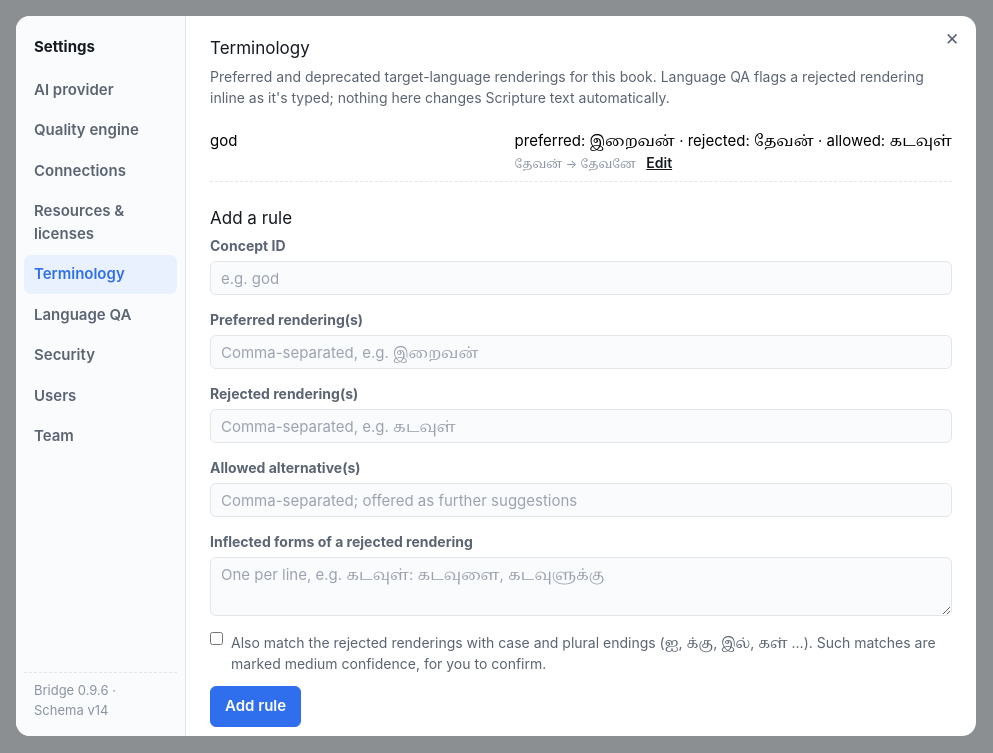
Test case: SettingsModal terminology (#171) › edits an existing rule with its v3 fields and saves it as a replacement (termbase v3)
Expected: the text "தேவன் → தேவனே" is shown, left=515, top=156, right=636, bottom=171
Expected: the text "allowed: கடவுள்" is shown, left=515, top=130, right=952, bottom=174
Click the button "Edit" at x=656, y=162, box left=640, top=152, right=672, bottom=173
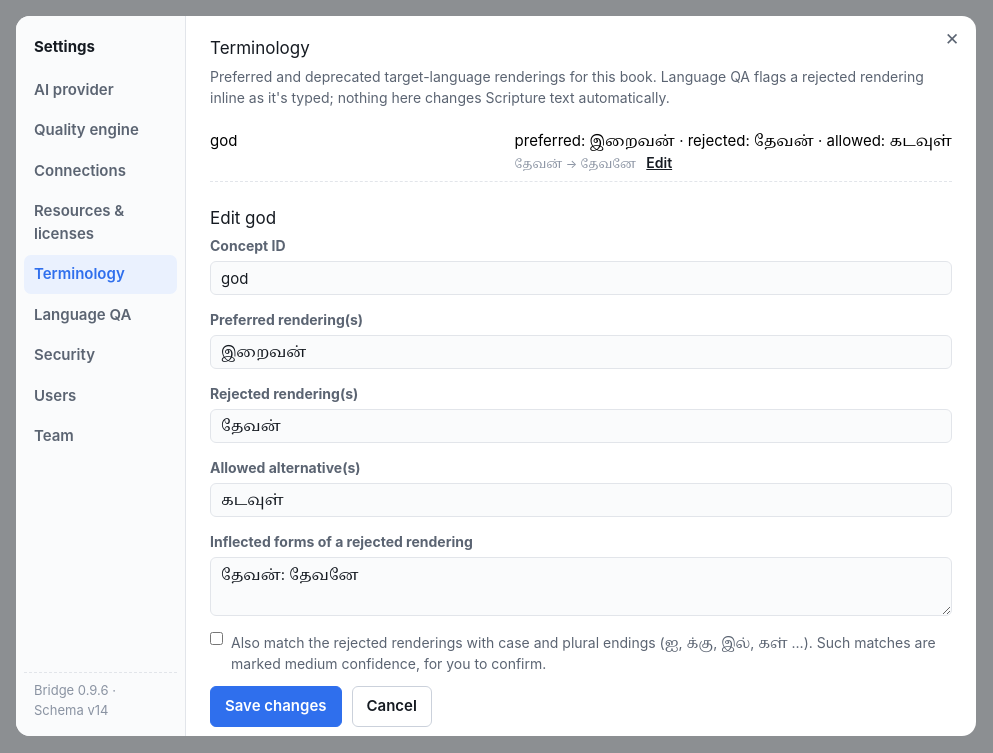
Expected: the field labelled "Concept ID" holds "god", left=210, top=261, right=952, bottom=295
Expected: the text box labelled "Inflected forms of a rejected rendering" holds "தேவன்: தேவனே", left=210, top=557, right=952, bottom=616
Click the checkbox at x=216, y=638, box left=210, top=632, right=223, bottom=645
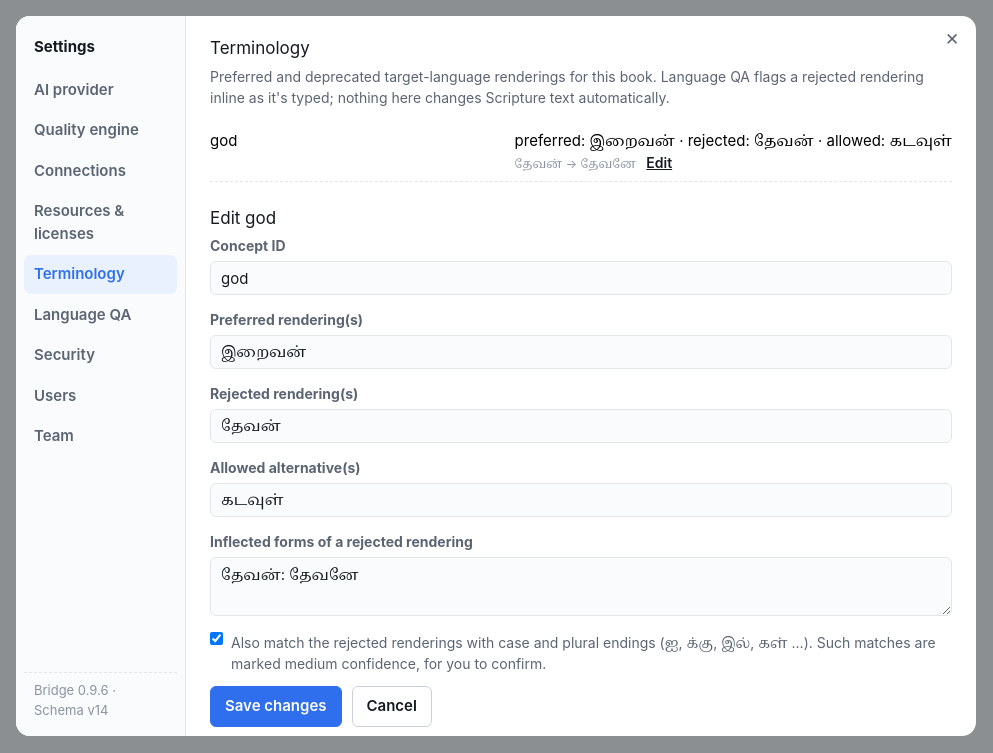
Click the button "Save changes" at x=276, y=706, box left=210, top=686, right=342, bottom=726
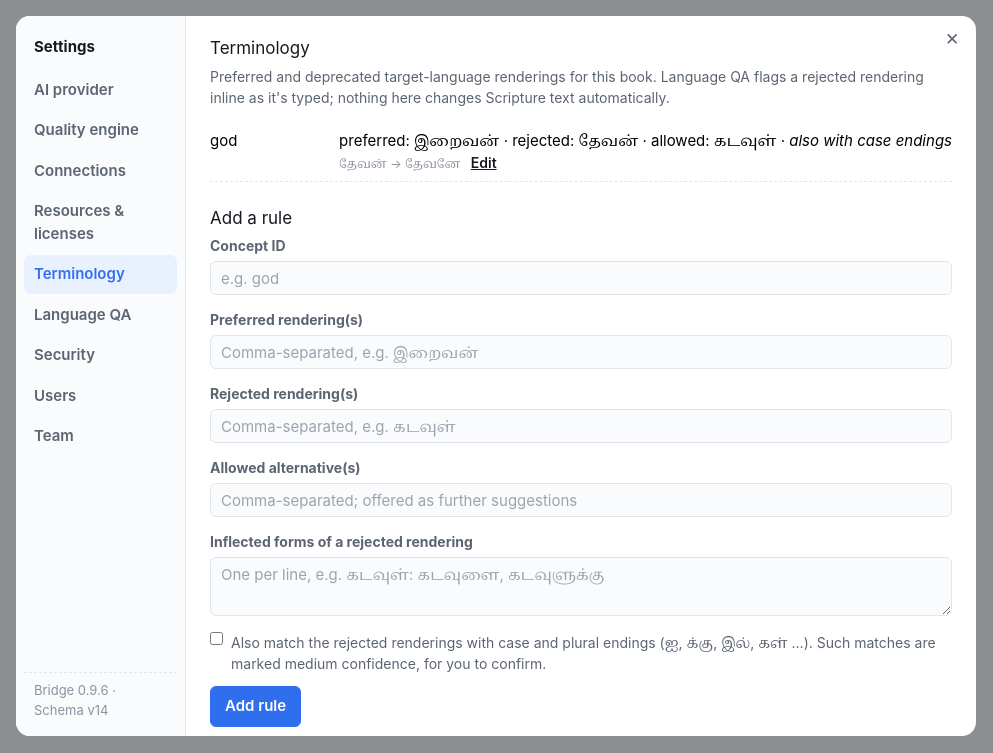
Expected: the text "also with case endings" is shown, left=789, top=130, right=952, bottom=150
